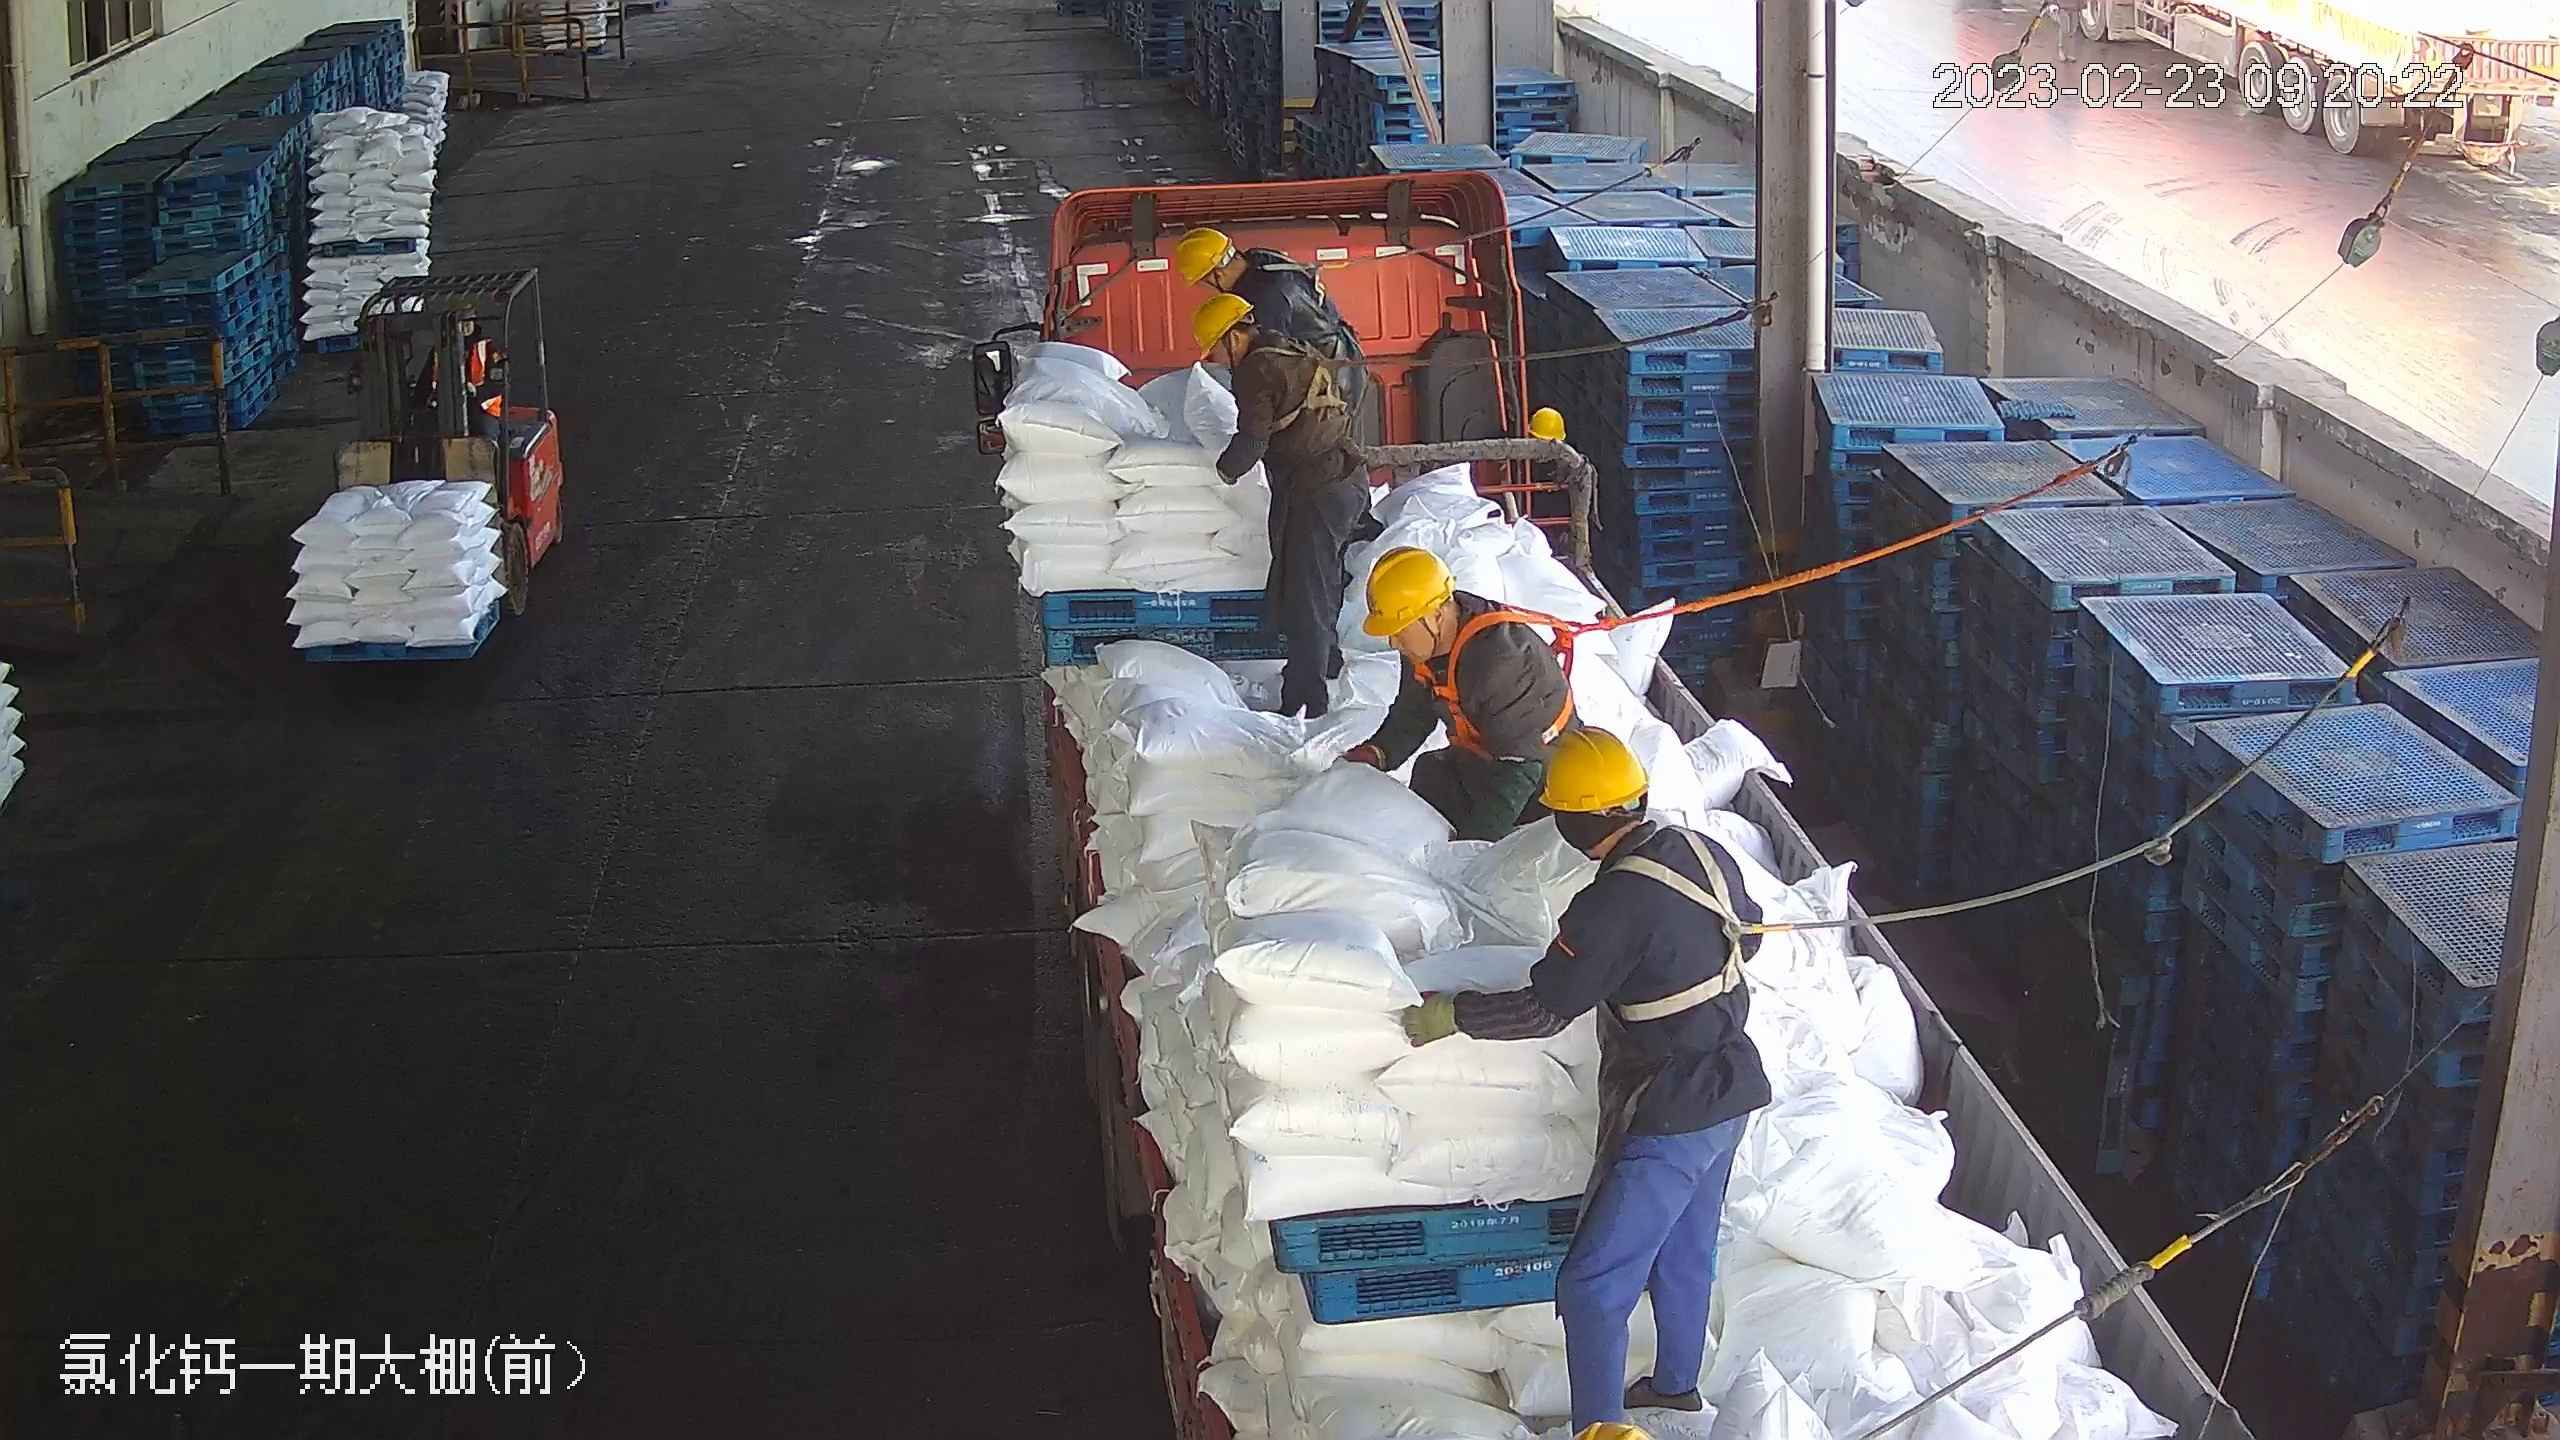belt: (1608, 828, 1782, 1019), (1414, 598, 1609, 756), (1246, 331, 1365, 430), (1261, 245, 1338, 296)
head: (1537, 725, 1743, 945), (1361, 545, 1541, 699), (1190, 290, 1321, 397), (1173, 223, 1283, 309), (1520, 406, 1589, 489)
helmet: (1533, 726, 1650, 813), (1362, 544, 1454, 636), (1170, 225, 1230, 286), (1189, 293, 1249, 357), (1529, 406, 1567, 437)
people: (1396, 725, 1774, 1435), (1328, 539, 1590, 848), (1188, 295, 1376, 721), (1178, 229, 1368, 417), (1516, 405, 1600, 591)
truck: (992, 159, 2258, 1437)
